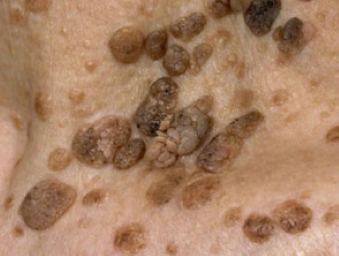seborrheic keratosis: (32, 21, 324, 241)
